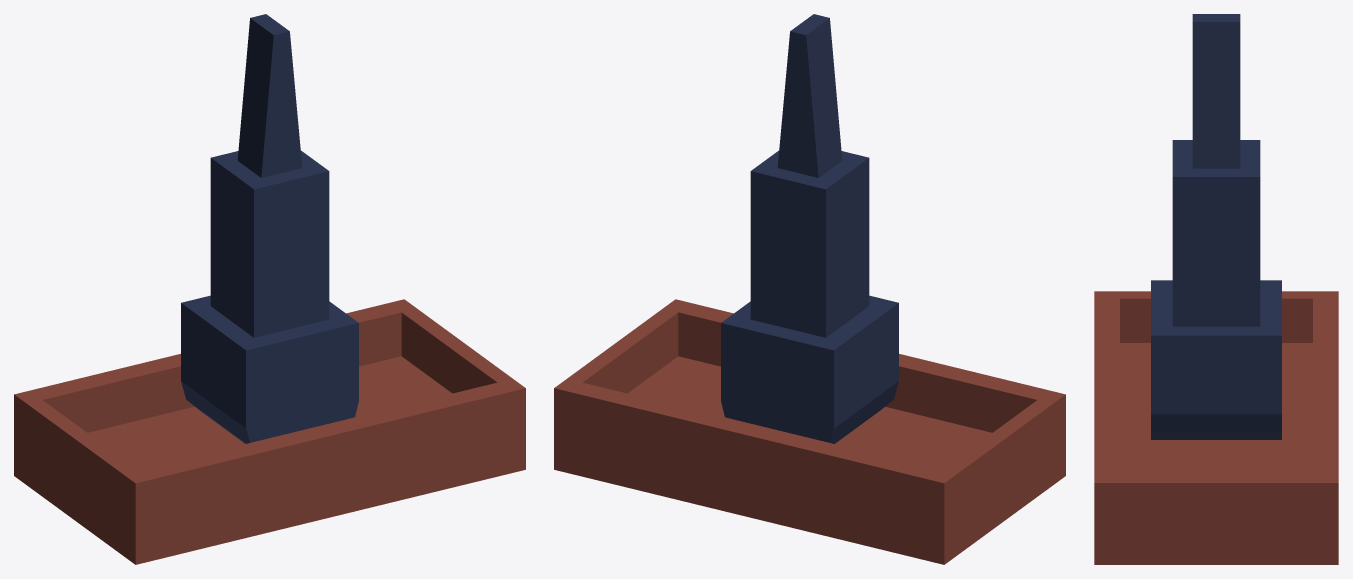
Rendered from lever.fbx.
The picture shows the model from 3 angles, left to right: view 1: azimuth 30°, elevation 25°; view 2: azimuth 150°, elevation 25°; view 3: azimuth 270°, elevation 25°; orthographic projection.
Parts seen in each view (by area): view 1: Cube; view 2: Cube; view 3: Cube.
Part boxes in pixels (left/top/right/bottom): Cube: left=14, top=14, right=525, bottom=564; Cube: left=554, top=14, right=1065, bottom=564; Cube: left=1094, top=14, right=1338, bottom=564.
Size of the model in its own units: 125 by 137 by 67.47.
